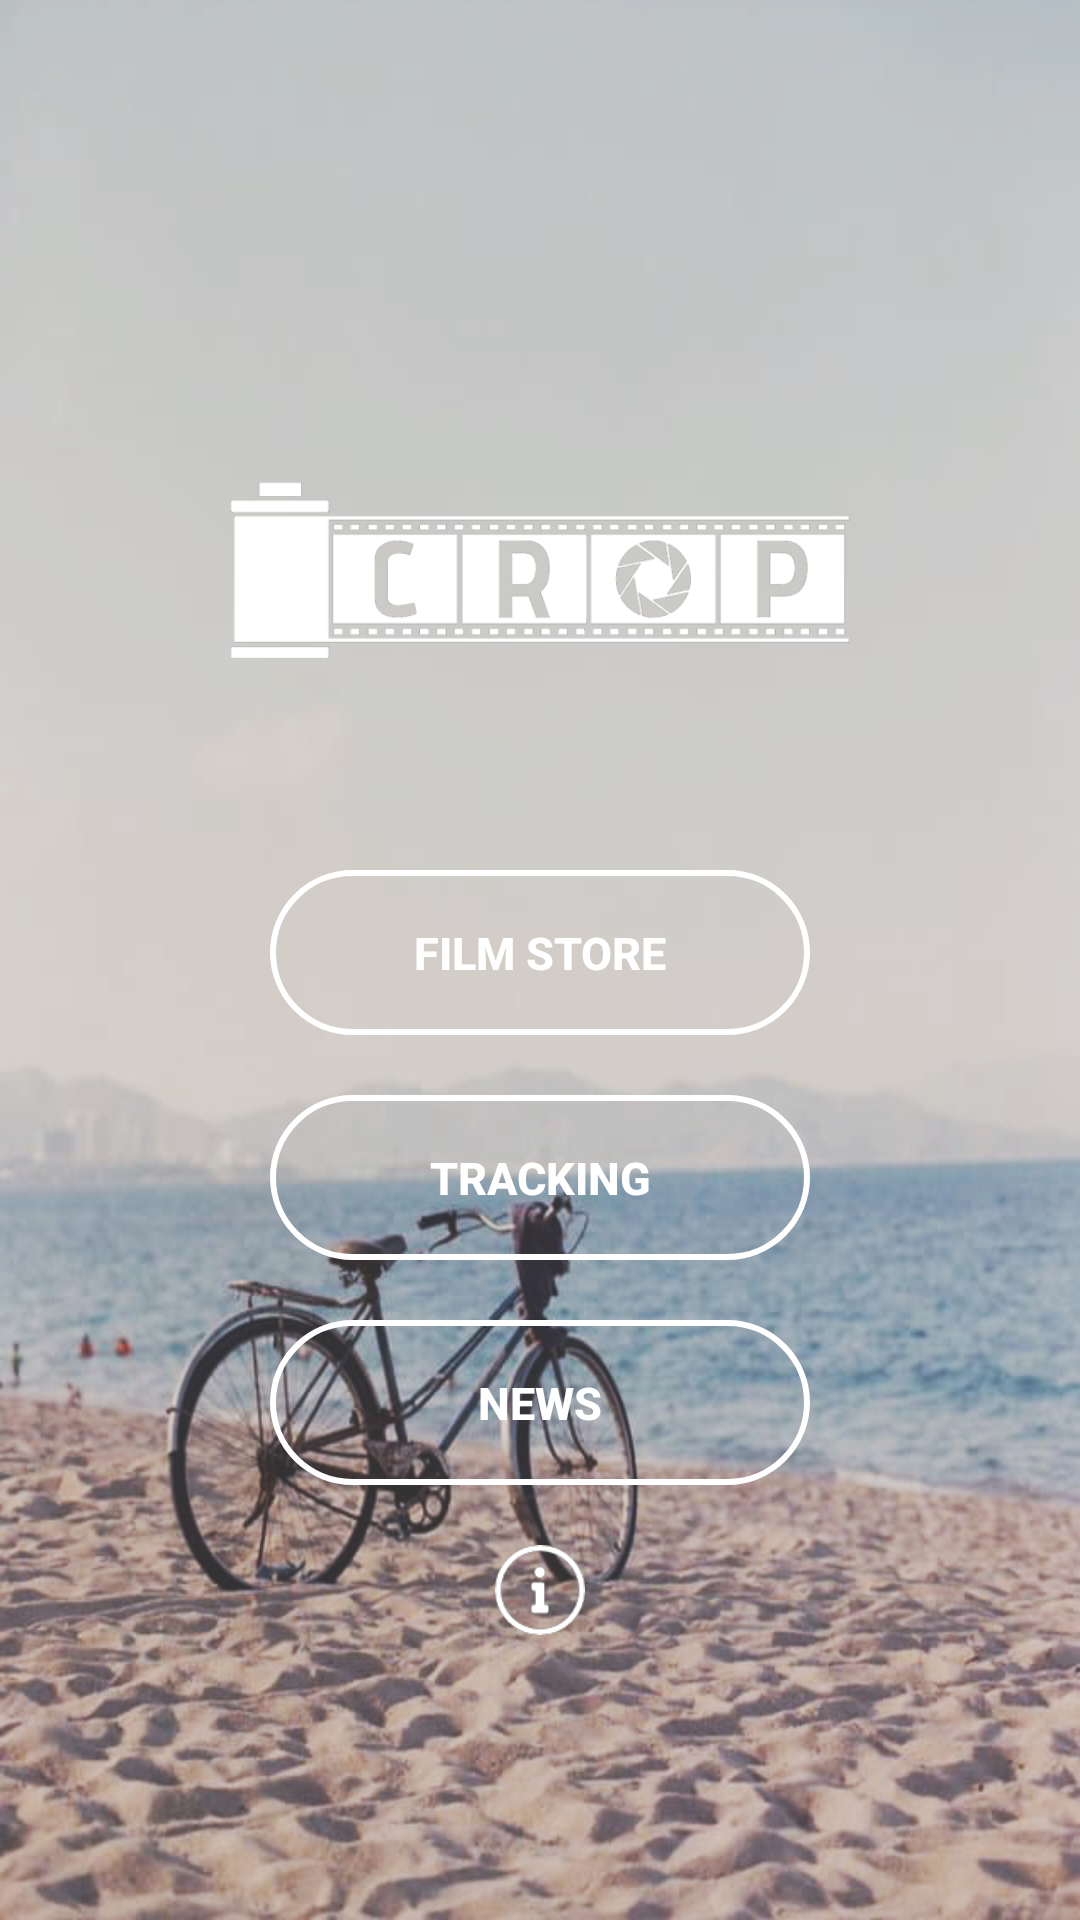

Named icons in this screenshot (1080px×1920px) and their centers, point (x, y):
information: point (540, 1590)
